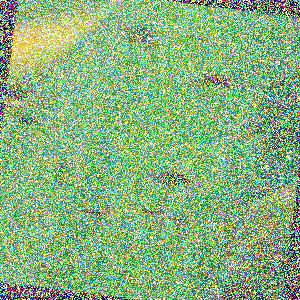Bacterial_Leaf_Blight: (145, 164, 207, 194), (190, 68, 249, 95), (118, 19, 162, 54), (171, 28, 226, 47), (10, 108, 51, 133), (243, 116, 270, 141), (132, 204, 168, 220), (70, 205, 113, 218), (6, 210, 28, 233), (45, 172, 69, 191), (160, 214, 191, 227), (63, 128, 85, 142), (52, 162, 70, 173), (233, 145, 245, 155)
